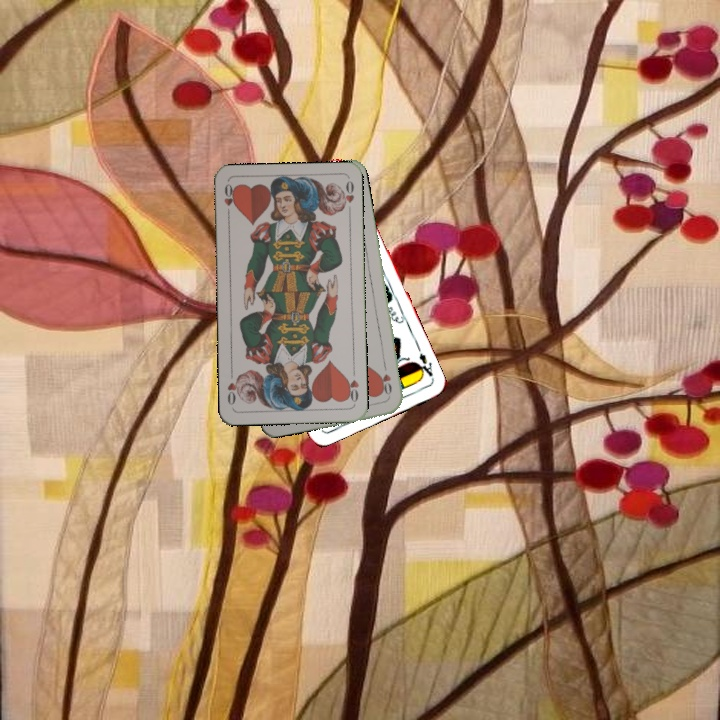EA: (412, 349, 435, 380)
HO: (343, 365, 361, 406), (220, 180, 237, 220), (379, 359, 394, 400)
